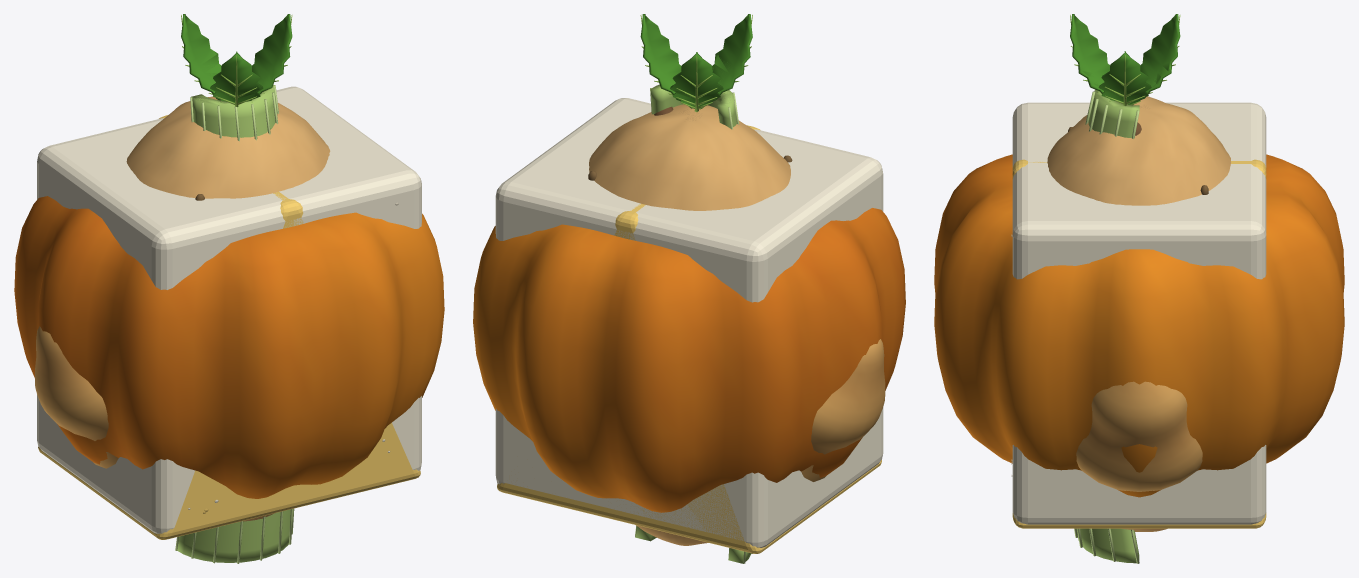
The model's file is typeslasher-pantry-pack.glb.
The picture shows the model from 3 angles, left to right: view 1: azimuth 30°, elevation 25°; view 2: azimuth 150°, elevation 25°; view 3: azimuth 270°, elevation 25°; orthographic projection.
Visible parts, largest first — view 1: food_pumpkin Painted pantry sculpted skin, food_tofu tofu solid surface, food_bread Painted bakery crust, food_cheese cheese solid surface, food_tofu_right tofu solid surface, food_celery Celery tender green rib, food_tofu_left tofu solid surface, food_croissant Painted bakery crust, food_celery Leaf green, food_celery Celery fine pale ribs, food_cheese_left cheese solid surface, food_cheese_right cheese solid surface (+1 smaller); view 2: food_pumpkin Painted pantry sculpted skin, food_tofu tofu solid surface, food_bread Painted bakery crust, food_tofu_left tofu solid surface, food_tofu_right tofu solid surface, food_cheese cheese solid surface, food_celery Leaf green, food_croissant Painted bakery crust, food_celery Celery tender green rib, food_cheese_left cheese solid surface, food_cheese_right cheese solid surface, food_celery Leaf vein; view 3: food_pumpkin Painted pantry sculpted skin, food_tofu tofu solid surface, food_bread Painted bakery crust, food_croissant Painted bakery crust, food_celery Leaf green, food_tofu_left tofu solid surface, food_tofu_right tofu solid surface, food_celery Celery tender green rib, food_cheese cheese solid surface, food_celery Celery fine pale ribs.
Part boxes in pixels (box(x1,y1,x2,y2)): food_pumpkin Painted pantry sculpted skin: box(14, 196, 444, 498); food_tofu tofu solid surface: box(37, 86, 421, 533); food_bread Painted bakery crust: box(126, 96, 330, 521); food_cheese cheese solid surface: box(38, 115, 420, 539); food_tofu_right tofu solid surface: box(276, 87, 414, 469); food_celery Celery tender green rib: box(177, 85, 290, 562); food_tofu_left tofu solid surface: box(51, 118, 293, 528); food_croissant Painted bakery crust: box(35, 326, 118, 468); food_celery Leaf green: box(181, 14, 292, 102); food_celery Celery fine pale ribs: box(175, 85, 294, 563); food_cheese_left cheese solid surface: box(168, 200, 293, 539); food_cheese_right cheese solid surface: box(282, 194, 414, 508); food_pumpkin Painted pantry sculpted skin: box(473, 208, 905, 512); food_tofu tofu solid surface: box(495, 98, 883, 547); food_bread Painted bakery crust: box(589, 104, 790, 545); food_tofu_left tofu solid surface: box(625, 129, 869, 541); food_tofu_right tofu solid surface: box(503, 98, 651, 511); food_cheese cheese solid surface: box(497, 125, 881, 553); food_celery Leaf green: box(640, 14, 752, 106); food_croissant Painted bakery crust: box(801, 339, 885, 481); food_celery Celery tender green rib: box(635, 84, 751, 563); food_cheese_left cheese solid surface: box(625, 126, 752, 552); food_cheese_right cheese solid surface: box(503, 125, 750, 522); food_celery Leaf vein: box(640, 15, 752, 111); food_pumpkin Painted pantry sculpted skin: box(934, 154, 1344, 497); food_tofu tofu solid surface: box(1012, 102, 1266, 524); food_bread Painted bakery crust: box(1047, 96, 1230, 531); food_croissant Painted bakery crust: box(1076, 381, 1202, 491); food_celery Leaf green: box(1070, 14, 1180, 104); food_tofu_left tofu solid surface: box(1012, 104, 1266, 167); food_tofu_right tofu solid surface: box(1013, 162, 1266, 228); food_celery Celery tender green rib: box(1076, 90, 1139, 563); food_cheese cheese solid surface: box(1012, 159, 1266, 528); food_celery Celery fine pale ribs: box(1074, 89, 1139, 563).
Size of the model in its own units: 2.13 by 2.75 by 2.
